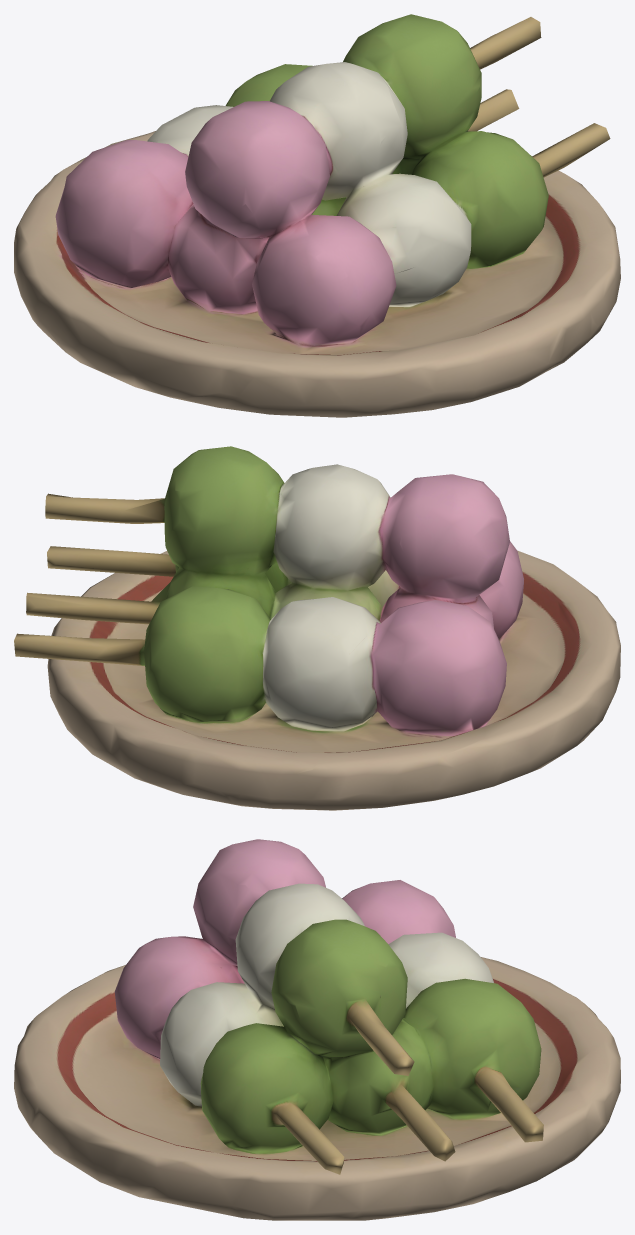
File: JP_사물_s2_food_tier2_dango.glb
3 views of the same model, one above another, from view 1: azimuth 30°, elevation 25°; view 2: azimuth 150°, elevation 25°; view 3: azimuth 270°, elevation 25° (orthographic). The views are drawn at different scales.
Parts seen in each view (by area): view 1: tripo_node_86c1a29e-9735-43be-853f-7f9fb9491f5a; view 2: tripo_node_86c1a29e-9735-43be-853f-7f9fb9491f5a; view 3: tripo_node_86c1a29e-9735-43be-853f-7f9fb9491f5a.
Boxes of the visible parts, x1=… form: tripo_node_86c1a29e-9735-43be-853f-7f9fb9491f5a: x1=14, y1=14, x2=620, y2=417; tripo_node_86c1a29e-9735-43be-853f-7f9fb9491f5a: x1=14, y1=446, x2=620, y2=810; tripo_node_86c1a29e-9735-43be-853f-7f9fb9491f5a: x1=14, y1=839, x2=620, y2=1220.
Bounding box in the file's own units: 1 × 0.4208 × 0.9788.
1 material, 1 textured.
